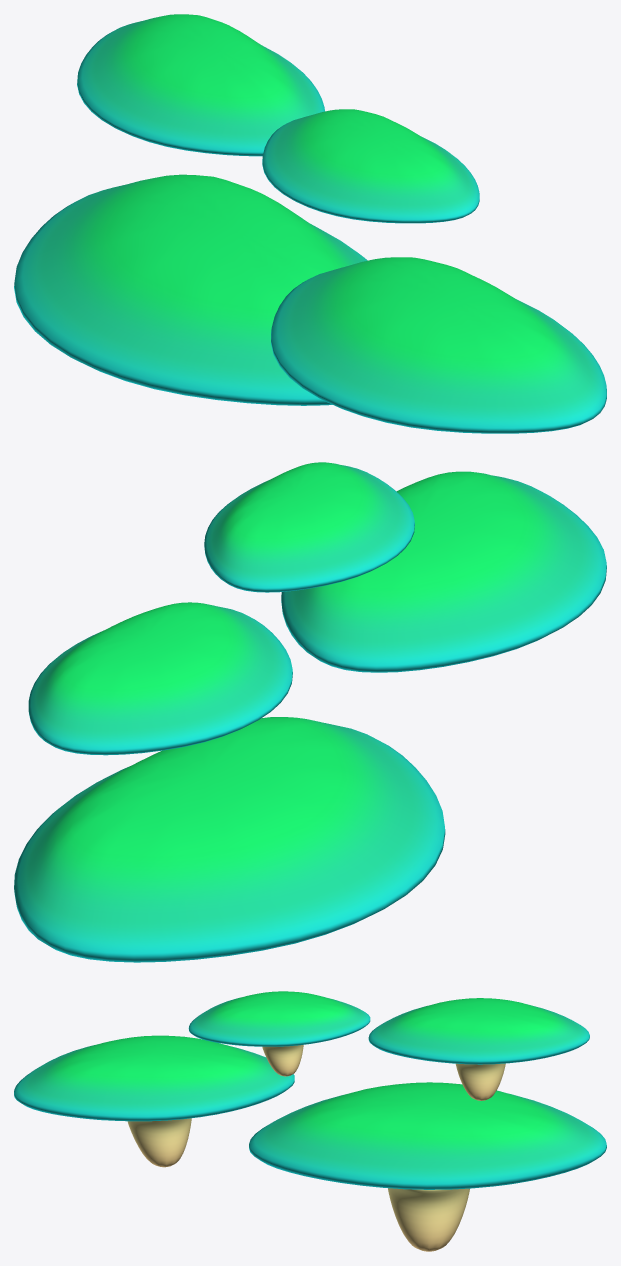
Rendered from WallMushrooms4.fbx.
The picture shows the model from 3 angles, top to bottom: view 1: azimuth 30°, elevation 25°; view 2: azimuth 150°, elevation 25°; view 3: azimuth 270°, elevation 25°; orthographic projection. The views are drawn at different scales.
Parts seen in each view (by area): view 1: MushroomCap.004, MushroomCap.005, MushroomCap.006, MushroomCap.007; view 2: MushroomCap.004, MushroomCap.005, MushroomCap.006, MushroomCap.007; view 3: MushroomCap.004, MushroomCap.005, MushroomCap.006, MushroomCap.007, MushroomStem.004, MushroomStem.005, MushroomStem.006, MushroomStem.007.
Part boxes in pixels (x1,y1,x2,y2): MushroomCap.004: [14, 174, 367, 405]; MushroomCap.005: [271, 257, 606, 433]; MushroomCap.006: [77, 14, 324, 156]; MushroomCap.007: [262, 109, 479, 223]; MushroomCap.004: [14, 717, 445, 962]; MushroomCap.005: [281, 471, 606, 672]; MushroomCap.006: [28, 602, 292, 755]; MushroomCap.007: [204, 462, 414, 592]; MushroomCap.004: [249, 1082, 606, 1189]; MushroomCap.005: [14, 1035, 294, 1121]; MushroomCap.006: [368, 998, 589, 1064]; MushroomCap.007: [188, 991, 370, 1046]; MushroomStem.004: [388, 1188, 469, 1251]; MushroomStem.005: [127, 1118, 191, 1167]; MushroomStem.006: [455, 1063, 505, 1100]; MushroomStem.007: [262, 1045, 303, 1076].
Size of the model in its own units: 758 by 821 by 1883.
